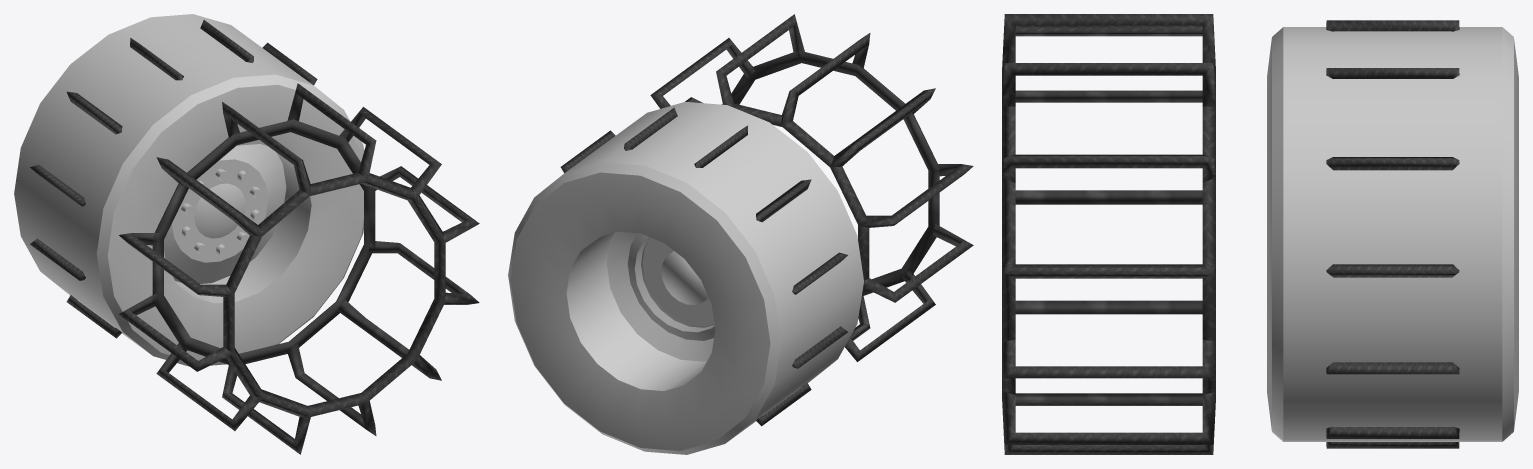
File: ATA_wheelchain.fbx
The picture shows the model from 3 angles, left to right: view 1: azimuth 30°, elevation 25°; view 2: azimuth 150°, elevation 25°; view 3: azimuth 270°, elevation 25°; orthographic projection. The views are drawn at different scales.
Parts seen in each view (by area): view 1: Cylinder036, chaintiresR, wheel, chaintires; view 2: Cylinder036, chaintiresR, wheel, chaintires; view 3: Cylinder036, chaintiresR, wheel, chaintires.
Part boxes in pixels (x1,y1,x2,y2): Cylinder036: (14, 14, 364, 366); chaintiresR: (118, 83, 479, 454); wheel: (46, 33, 286, 326); chaintires: (30, 20, 317, 338); Cylinder036: (508, 101, 863, 454); chaintiresR: (650, 14, 973, 361); wheel: (590, 126, 831, 411); chaintires: (560, 107, 847, 426); Cylinder036: (1267, 27, 1518, 441); chaintiresR: (1002, 14, 1215, 454); wheel: (1350, 31, 1436, 441); chaintires: (1326, 20, 1459, 448).
Bounding box in the file's own units: 32 × 32 × 38.24.
